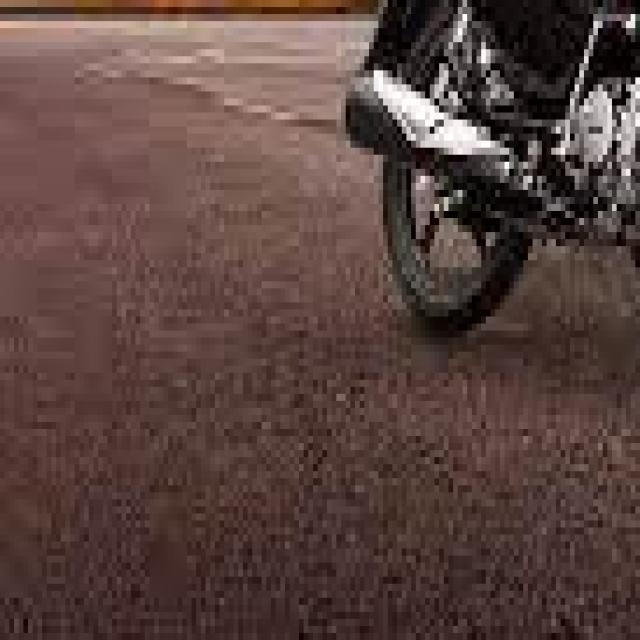bike: (331, 0, 640, 450)
